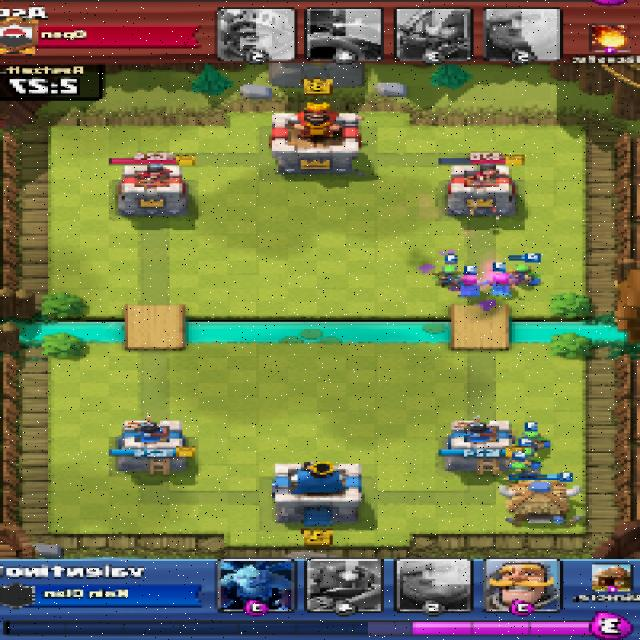Enemy-Archer: (487, 273, 518, 296), (454, 275, 482, 298)
Player-GoblinHut: (499, 479, 583, 525)
Player-SpearGoblin: (429, 263, 464, 286), (504, 461, 535, 482), (512, 264, 543, 284), (520, 431, 547, 451), (512, 449, 543, 465)
